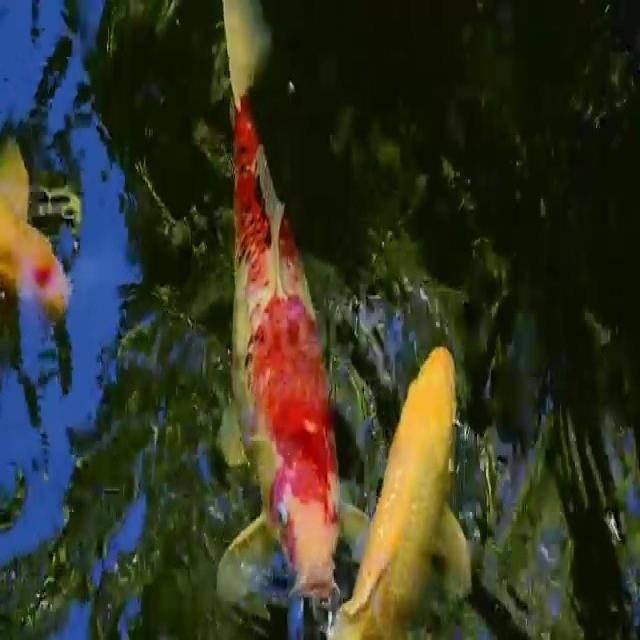fish: (198, 3, 349, 604), (334, 339, 467, 640)
